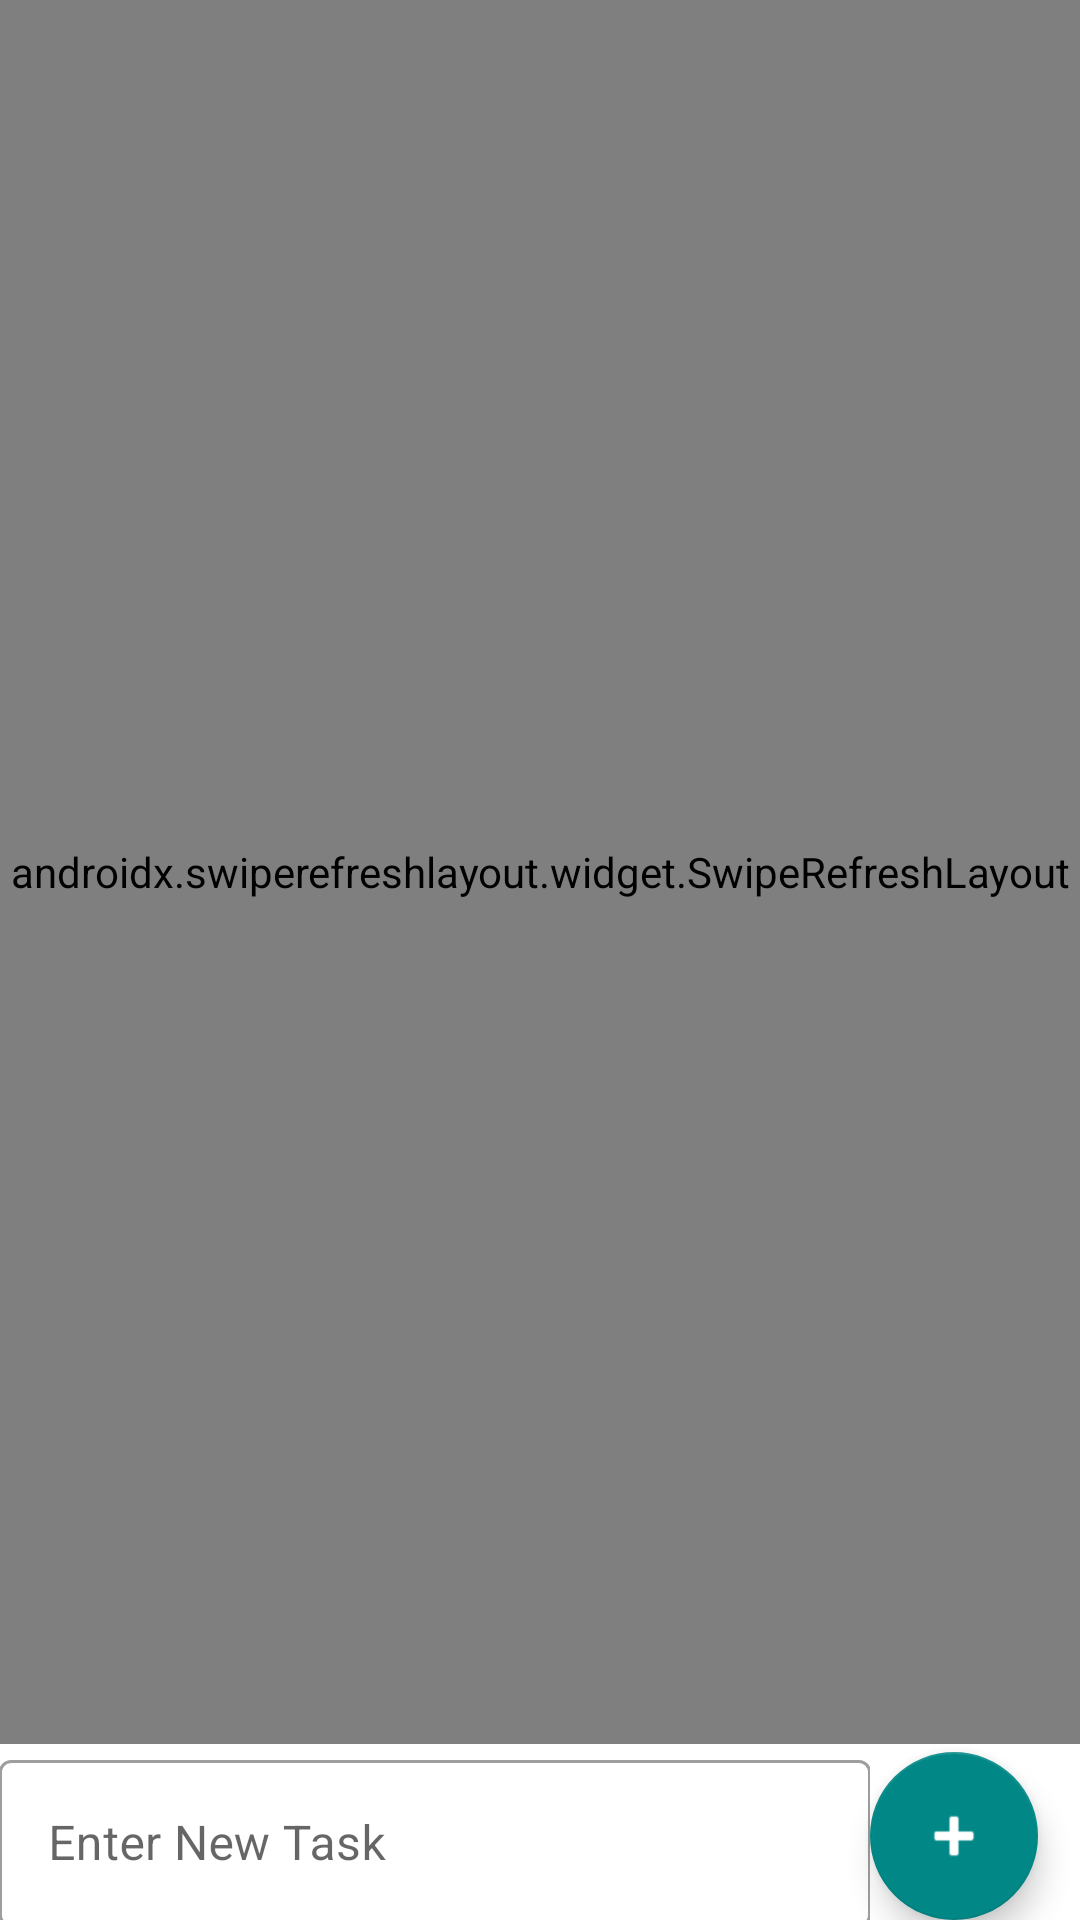

Screen size 1080 x 1920. Icon name, then its center in pixels as point (x, y):
add: point (954, 1836)
